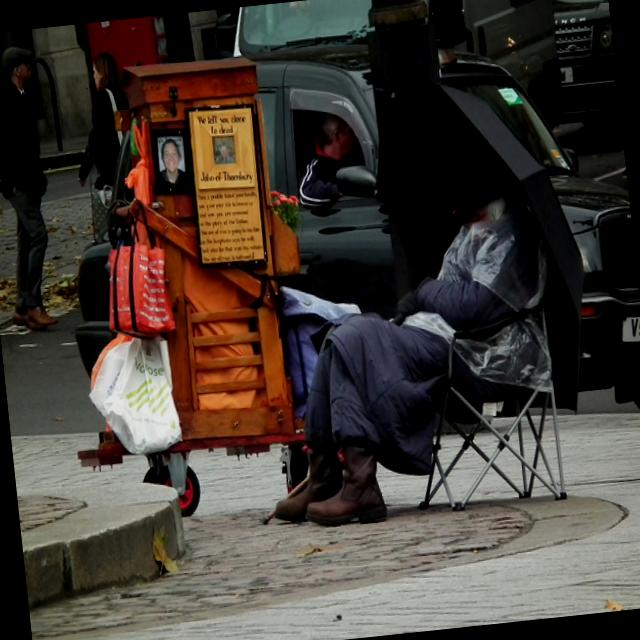Vehicle: (252, 15, 640, 448), (547, 0, 620, 123), (226, 0, 373, 58)
